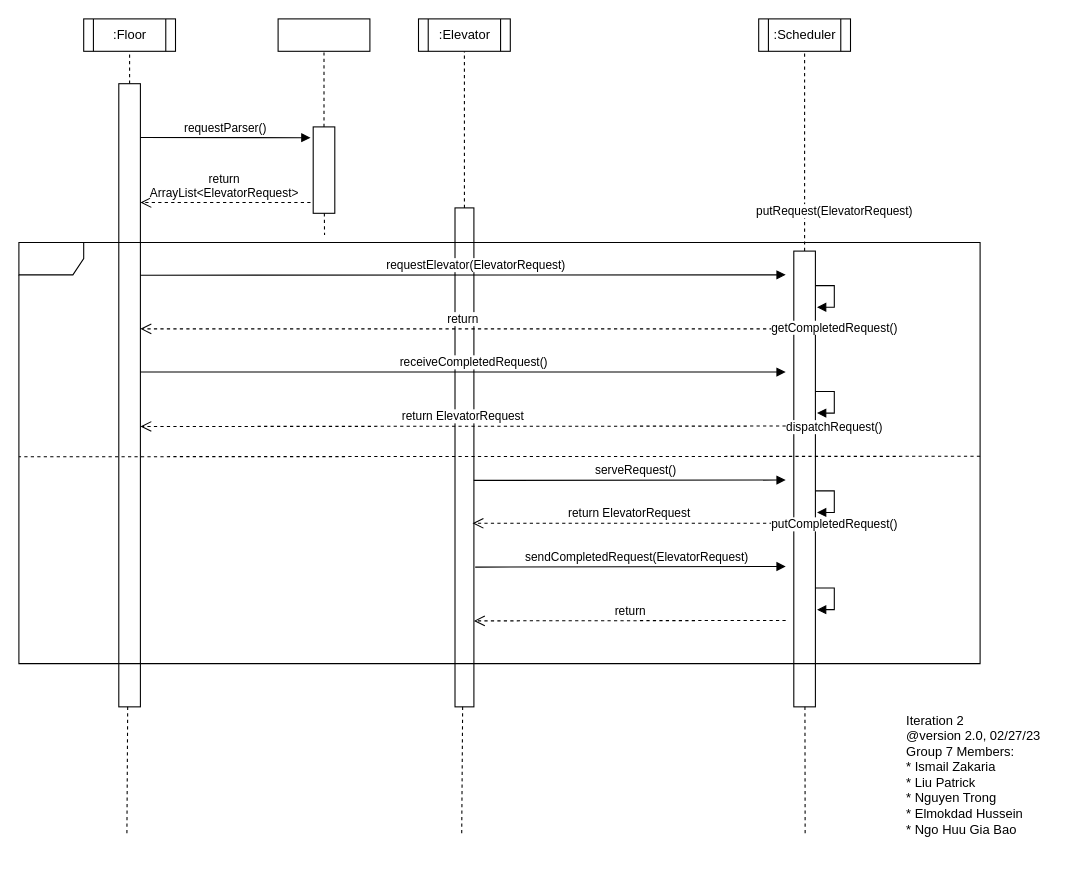
Some shapes in this 1075 by 869 pixel diagram are drawn without their labels. Each missing label, with the centre of its shape:
":Parser" goes at (323,34).
"par" goes at (499,452).
